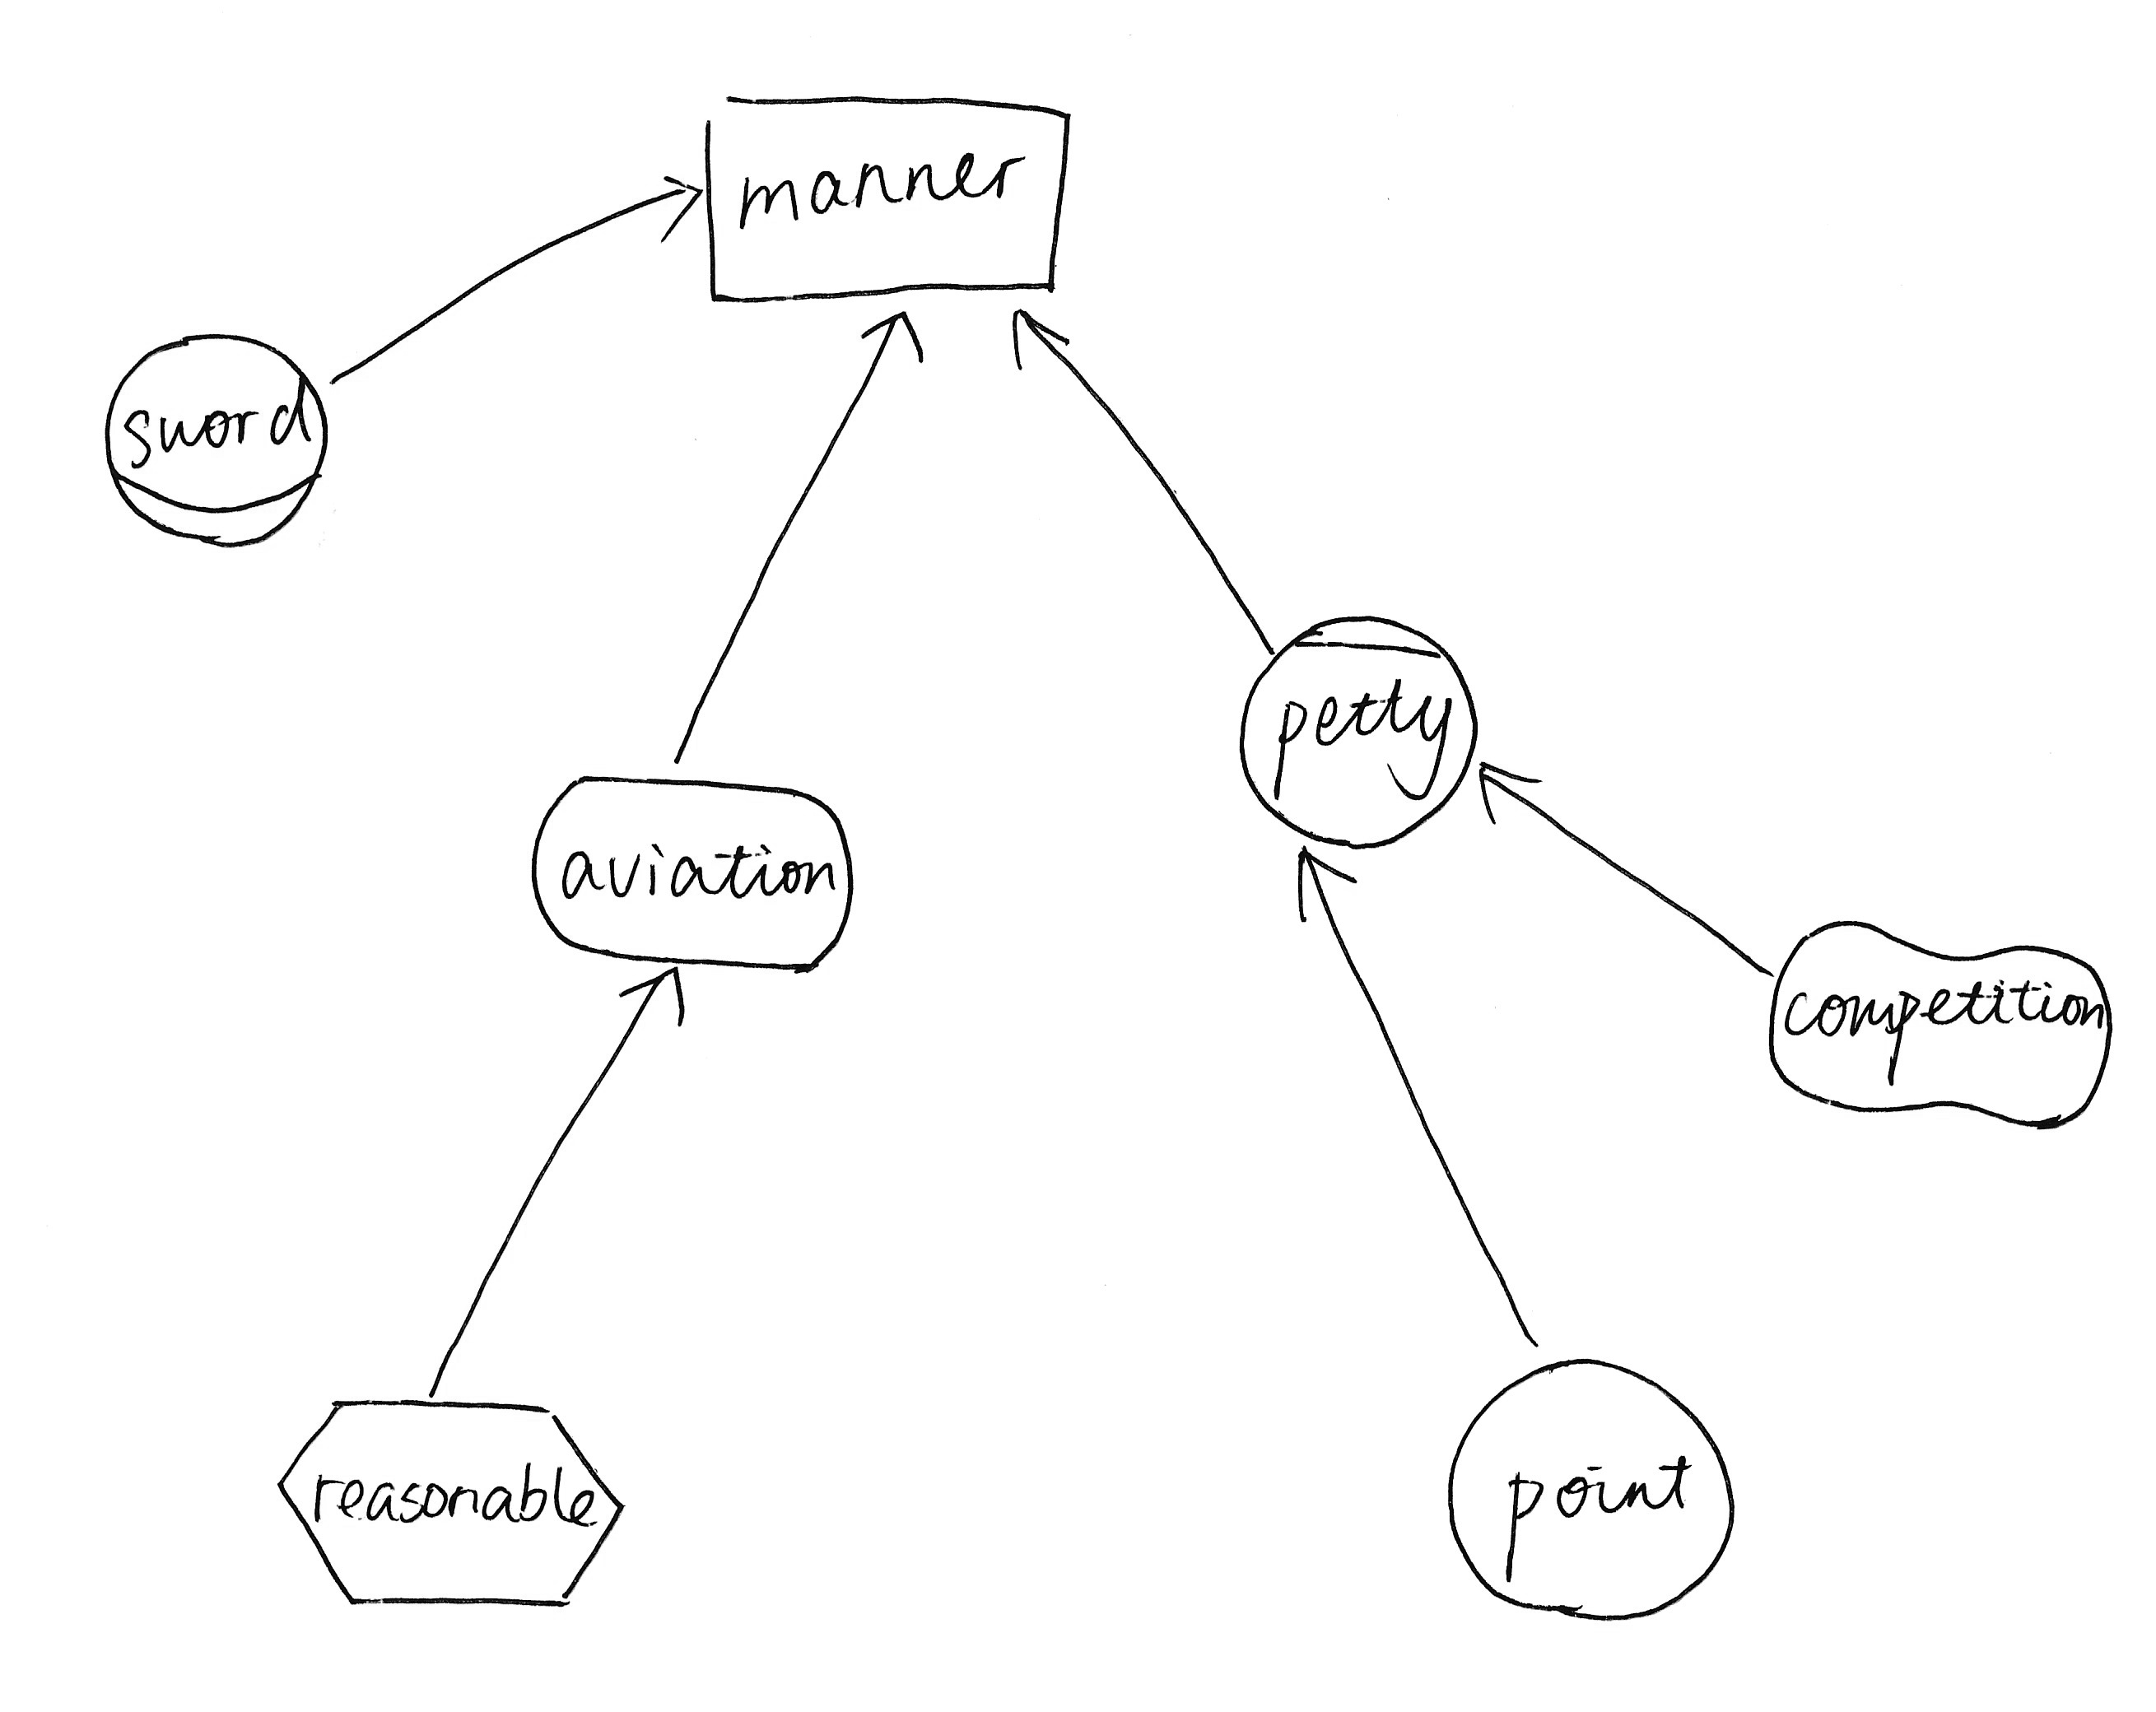actor: (1424, 1341, 1757, 1635)
agent: (1220, 597, 1507, 865)
arrow: (1272, 837, 1375, 937), (852, 294, 940, 387), (595, 963, 695, 1038), (1465, 749, 1547, 837), (1001, 292, 1083, 380), (647, 161, 712, 257)
goal: (511, 760, 873, 993)
quality: (1746, 902, 2130, 1150)
resource: (684, 63, 1095, 333)
role: (75, 313, 346, 565)
task: (264, 1379, 639, 1621)
